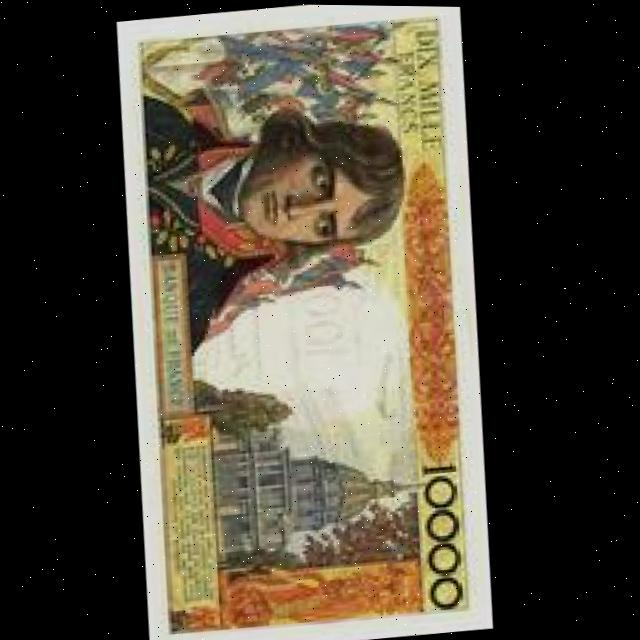banknote: (93, 1, 524, 640), (420, 457, 480, 612), (403, 19, 455, 159)
